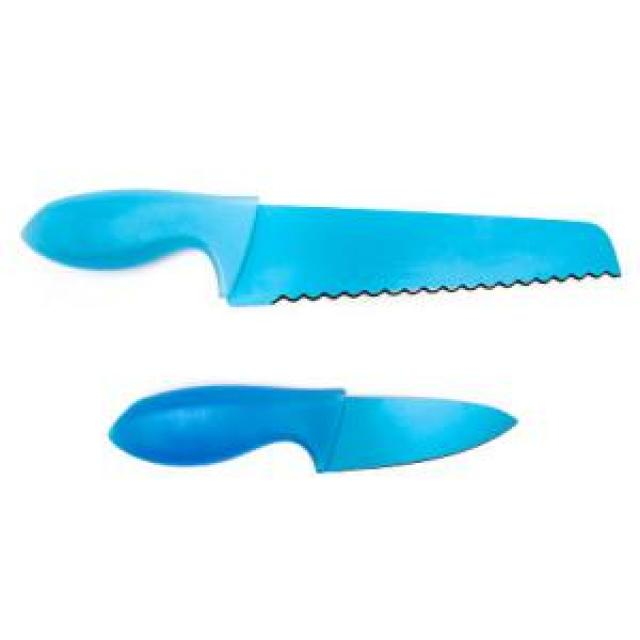knife: (8, 184, 623, 310), (105, 382, 544, 478)
